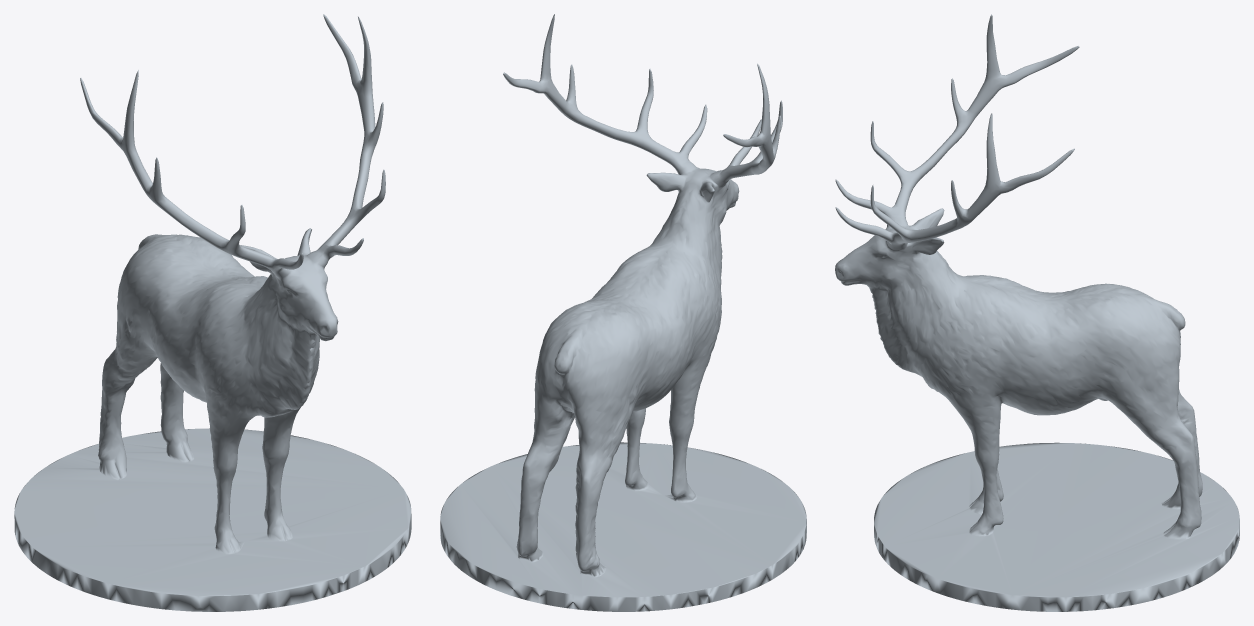
The model's file is elk.glb.
3 views of the same model, side by side, from view 1: azimuth 30°, elevation 25°; view 2: azimuth 150°, elevation 25°; view 3: azimuth 270°, elevation 25° (orthographic). The views are drawn at different scales.
Visible parts, largest first — view 1: Elk.001; view 2: Elk.001; view 3: Elk.001.
Part boxes in pixels (box(x1,y1,x2,y2)): Elk.001: box(14, 14, 411, 611); Elk.001: box(440, 14, 806, 611); Elk.001: box(835, 14, 1239, 611).
Size of the model in its own units: 50.5 by 71.75 by 55.86.
Materials: 1 (1 with a texture image).
